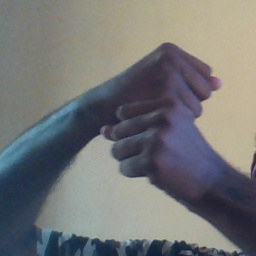G: (95, 37, 225, 188)
